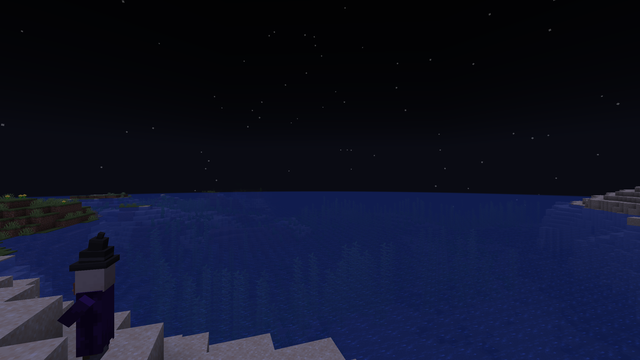sorcieres: (69, 256, 119, 358)
